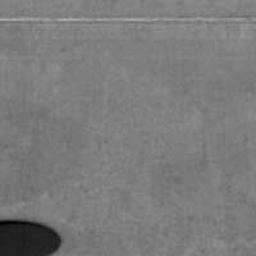Punching: (0, 218, 64, 256)
